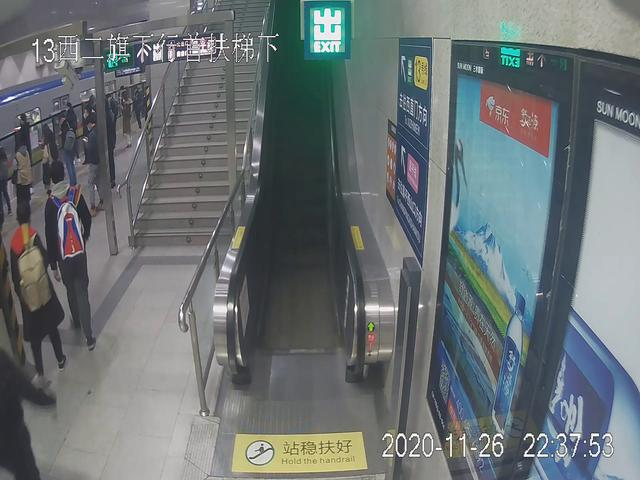person: (40, 160, 106, 352), (11, 205, 64, 388), (11, 130, 38, 218), (52, 109, 79, 193), (81, 110, 102, 217), (114, 87, 141, 152)
